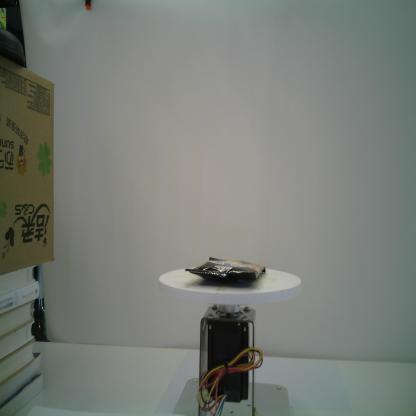Instant Drink: (184, 256, 266, 285)
